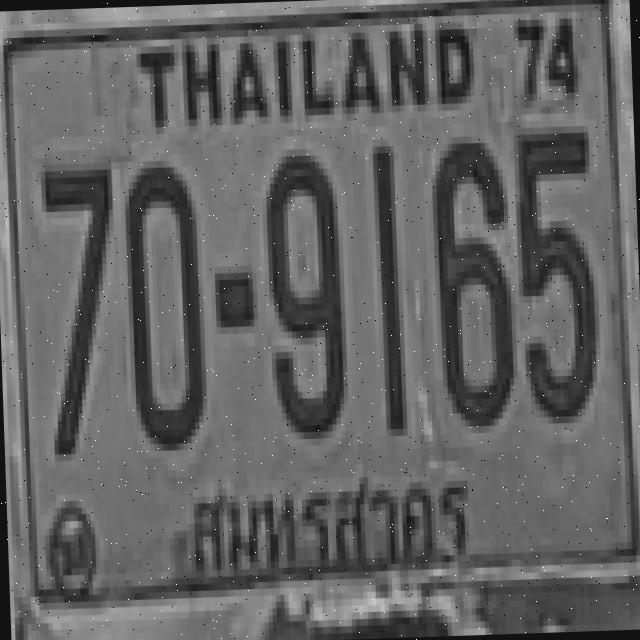0: (121, 160, 206, 444)
1: (368, 142, 403, 432)
5: (513, 125, 598, 418)
6: (428, 135, 512, 427)
7: (40, 162, 121, 454), (40, 159, 118, 370)
9: (260, 148, 345, 432)
SamutSakhon: (176, 449, 484, 588)
